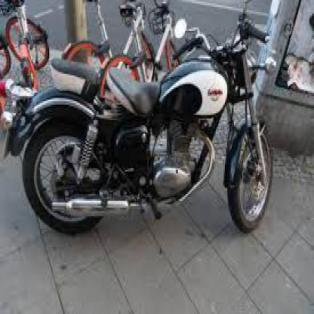Motocicleta: (16, 0, 280, 236)
